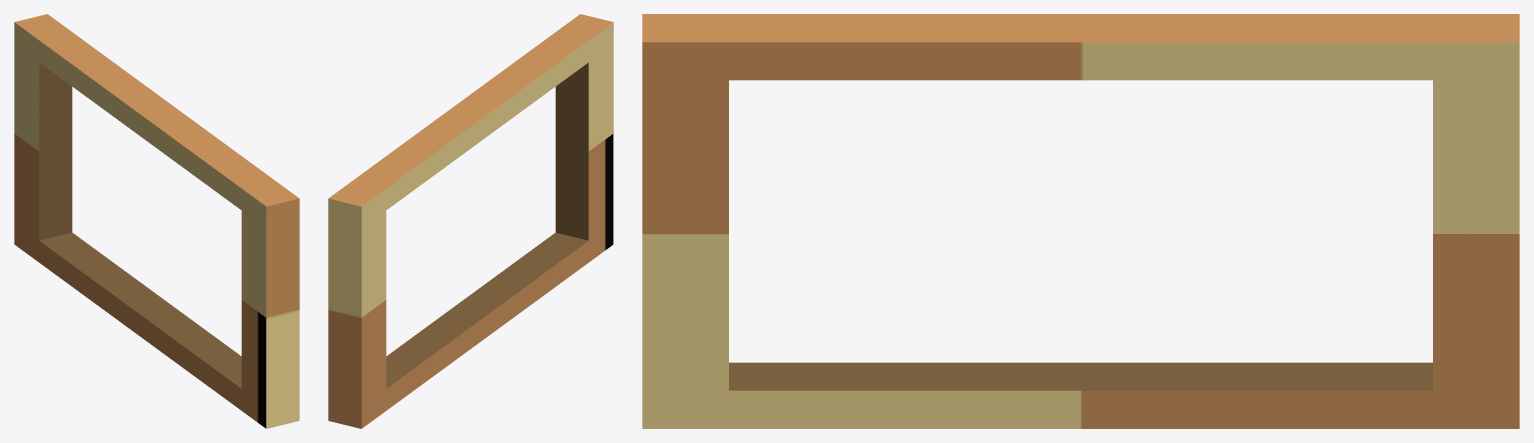
Rendered from waku.fbx.
The picture shows the model from 3 angles, left to right: view 1: azimuth 30°, elevation 25°; view 2: azimuth 150°, elevation 25°; view 3: azimuth 270°, elevation 25°; orthographic projection. The views are drawn at different scales.
Visible parts, largest first — view 1: Cube; view 2: Cube; view 3: Cube.
Part boxes in pixels (bbox=[...]): Cube: bbox=[14, 14, 299, 428]; Cube: bbox=[328, 14, 613, 428]; Cube: bbox=[642, 14, 1519, 428].
Bounding box in the file's own units: 137 × 877 × 1802.
